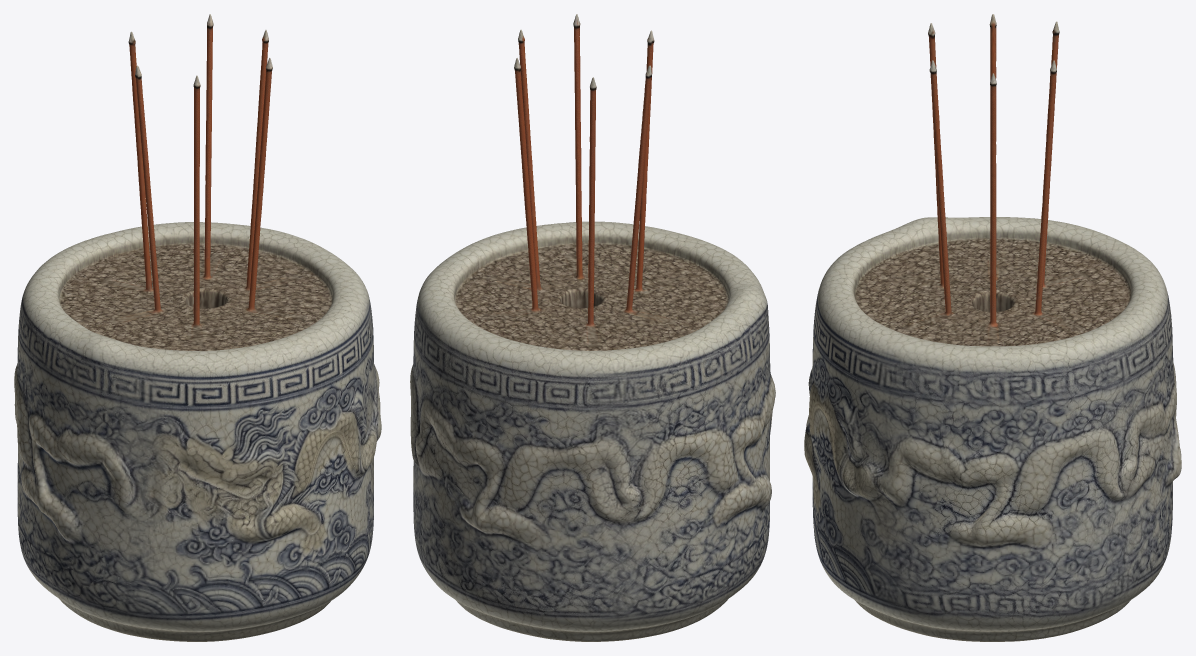
File: Meshy_AI_Dragon_Incense_Vase_1013161121_texture.fbx
3 renders of one model, left to right at view 1: azimuth 30°, elevation 25°; view 2: azimuth 150°, elevation 25°; view 3: azimuth 270°, elevation 25°, orthographic.
Visible parts, largest first — view 1: Mesh_0; view 2: Mesh_0; view 3: Mesh_0.
Part boxes in pixels (left/top/right/bottom): Mesh_0: left=14, top=14, right=381, bottom=641; Mesh_0: left=410, top=14, right=775, bottom=641; Mesh_0: left=804, top=14, right=1181, bottom=641.
Bounding box in the file's own units: 120 × 190 × 119.
Materials: 1 (1 with a texture image).
